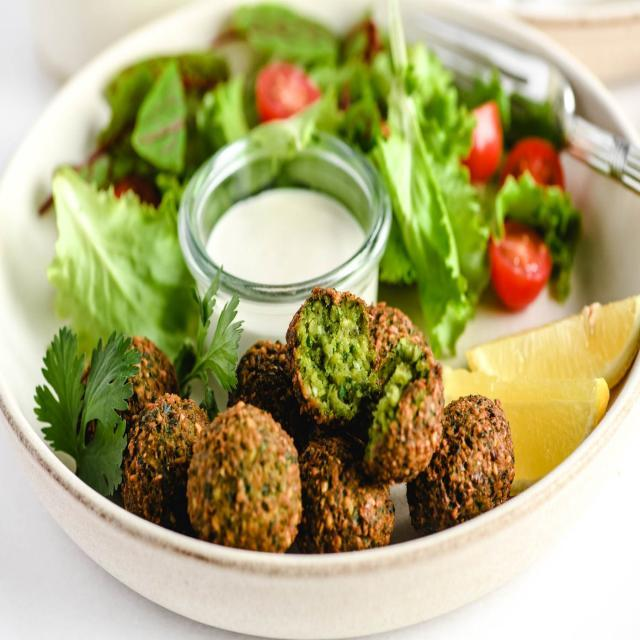flafel: (186, 400, 302, 560), (406, 395, 516, 535), (288, 289, 373, 425)
